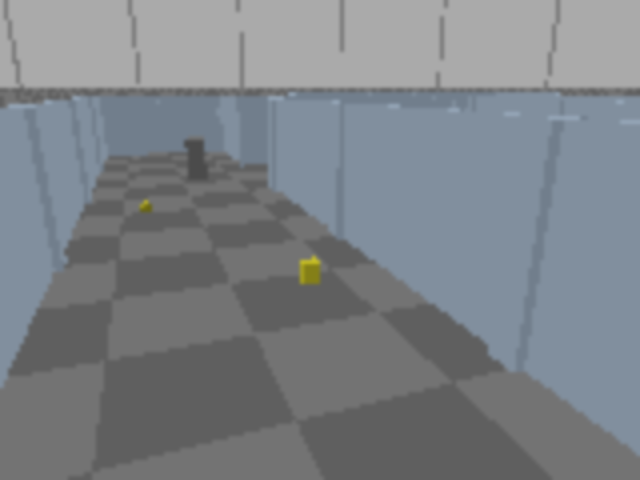puck: (299, 258, 320, 284)
